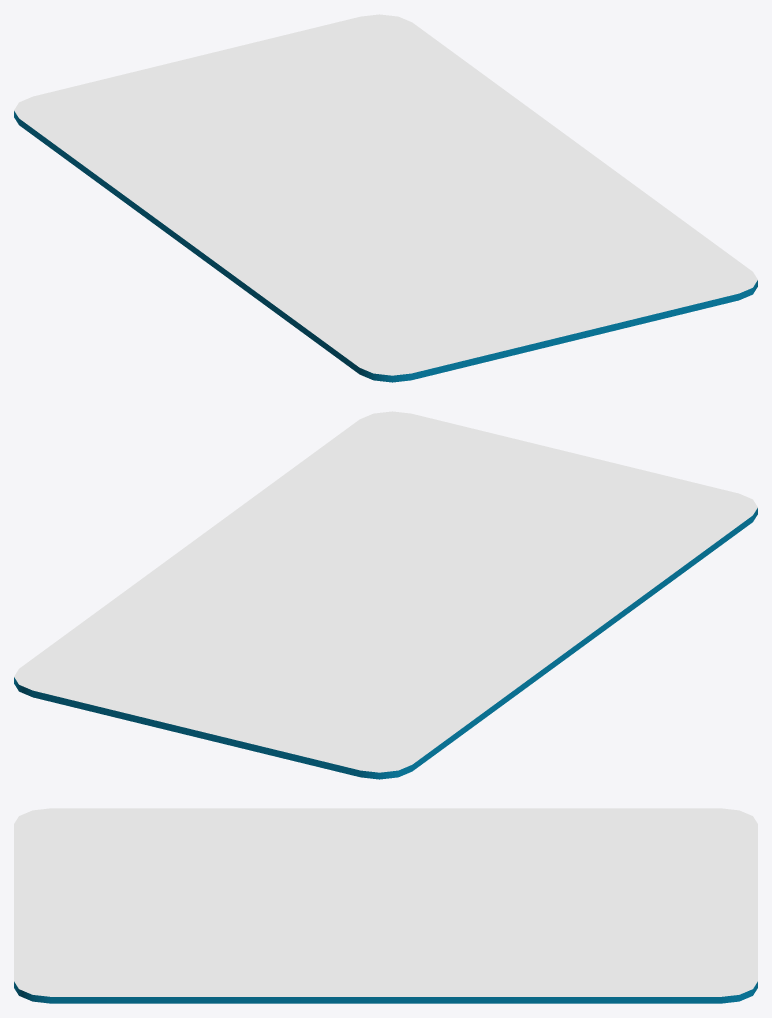
3 views of the same model, one above another, from view 1: azimuth 30°, elevation 25°; view 2: azimuth 150°, elevation 25°; view 3: azimuth 270°, elevation 25° (orthographic).
Visible parts, largest first — view 1: Cube.002; view 2: Cube.002; view 3: Cube.002.
Boxes of the visible parts, x1=… form: Cube.002: x1=14, y1=14, x2=757, y2=382; Cube.002: x1=14, y1=411, x2=757, y2=779; Cube.002: x1=14, y1=808, x2=757, y2=1003.
Bounding box in the file's own units: 0.4566 × 0.00761 × 0.761.
